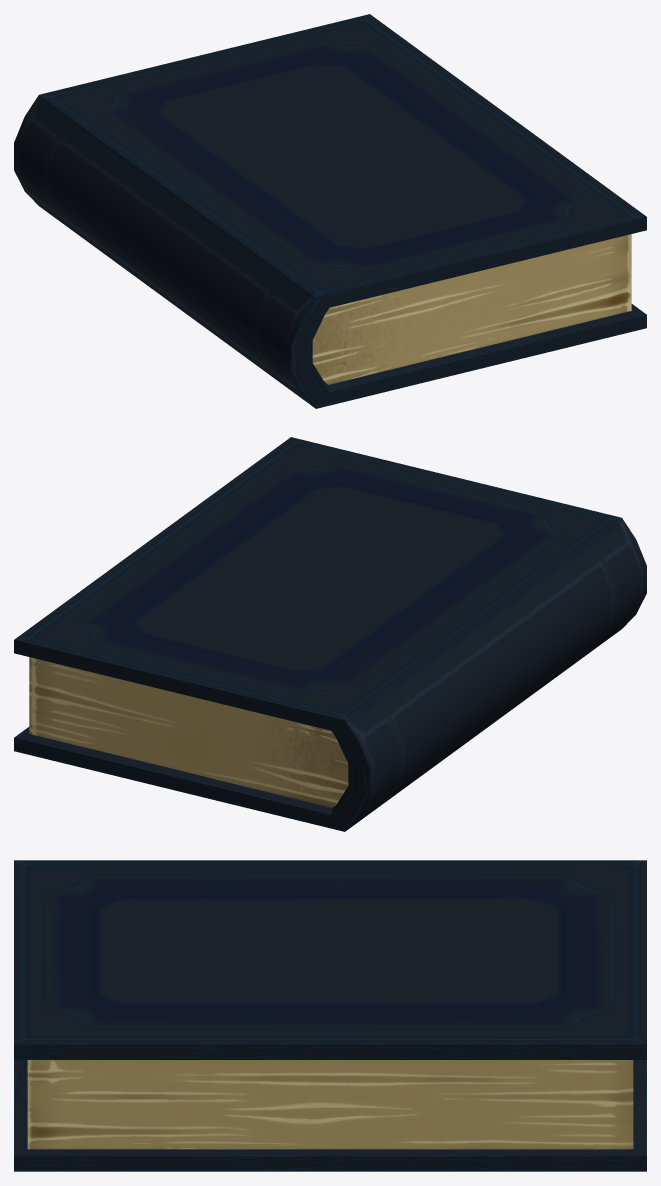
The model's file is book_5.gltf.
3 views of the same model, one above another, from view 1: azimuth 30°, elevation 25°; view 2: azimuth 150°, elevation 25°; view 3: azimuth 270°, elevation 25° (orthographic). The views are drawn at different scales.
Parts seen in each view (by area): view 1: Book_5; view 2: Book_5; view 3: Book_5.
Boxes of the visible parts, left/top/right/bottom form: Book_5: left=14, top=14, right=646, bottom=408; Book_5: left=14, top=437, right=646, bottom=831; Book_5: left=14, top=860, right=646, bottom=1171.
Size of the model in its own units: 0.2129 by 0.0636 by 0.2871.
Materials: 1 (1 with a texture image).
